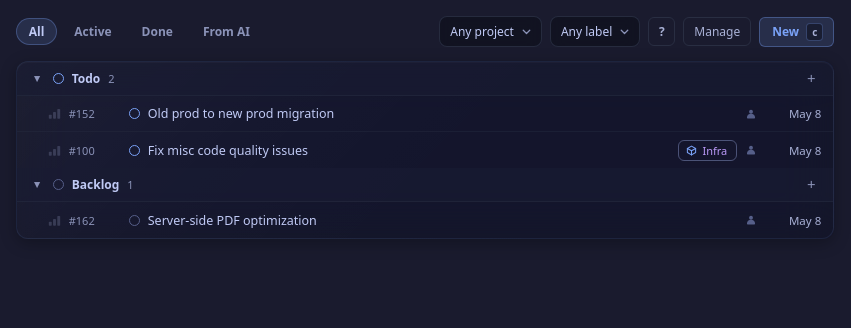
Test: TodosPage selection › deletes every selected todo and then clears the selection
Check: the text "Old prod to new prod migration" is shown, box [148,105,334,122]
Click the checkbox named "Select Old prod to new prod migration": click(425, 114) [17,96,833,132]
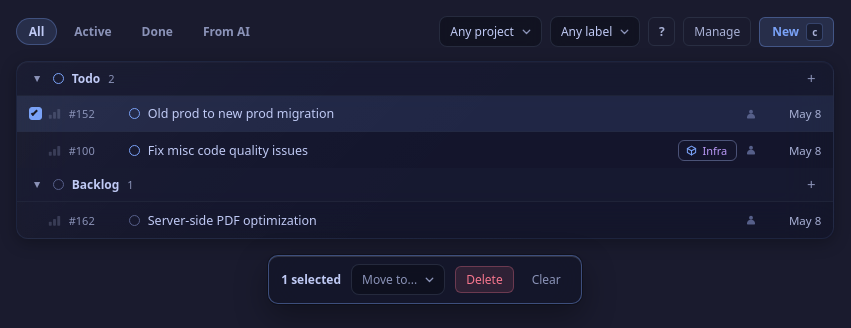
Click the checkbox named "Select Fix misc code quality issues": click(425, 150) [17,132,833,168]
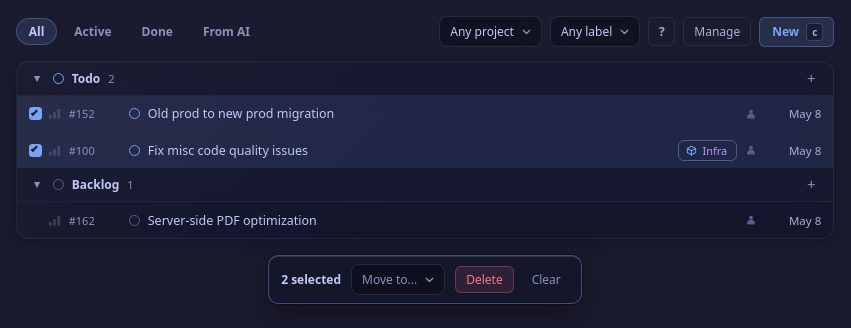
Check: the text "2 selected" is shown, box [281,271,341,288]
Click the button "Delete": click(484, 280) [455,266,514,293]
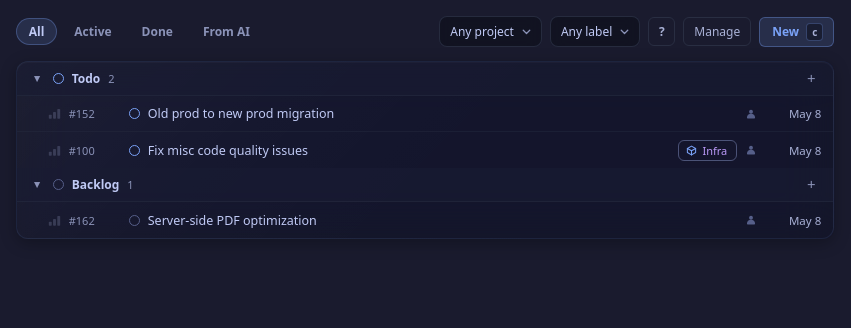
Check: the text "2 selected" is gone
